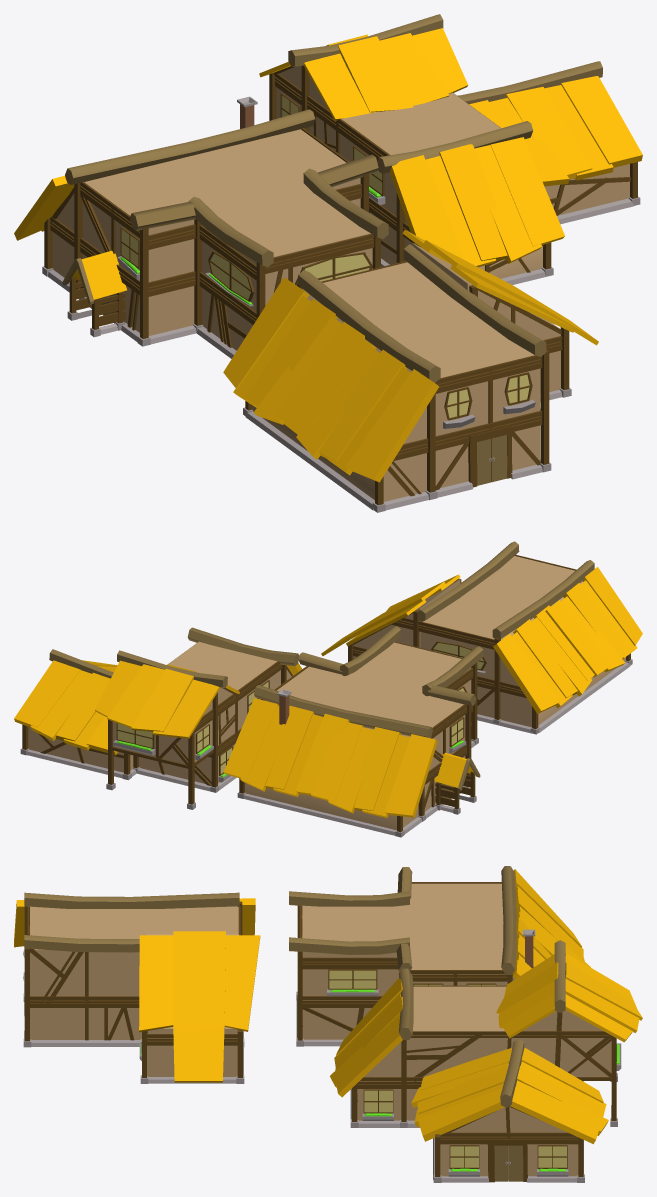
The model's file is roof houses.fbx.
3 renders of one model, top to bottom at view 1: azimuth 30°, elevation 25°; view 2: azimuth 150°, elevation 25°; view 3: azimuth 270°, elevation 25°, orthographic. The views are drawn at different scales.
Visible parts, largest first — view 1: Flat_house_1, House_5, flat_house_T_section; view 2: flat_house_T_section, Flat_house_1, House_5; view 3: House_5, Flat_house_1, flat_house_T_section.
Part boxes in pixels (<box>): Flat_house_1: <box>223,230,598,512</box>; House_5: <box>259,14,642,284</box>; flat_house_T_section: <box>14,96,388,358</box>; flat_house_T_section: <box>224,626,483,837</box>; Flat_house_1: <box>321,541,642,734</box>; House_5: <box>14,627,301,809</box>; House_5: <box>330,940,642,1182</box>; Flat_house_1: <box>14,892,260,1083</box>; flat_house_T_section: <box>289,866,590,1046</box>.
Size of the model in its own units: 30.84 by 8.73 by 36.95.
